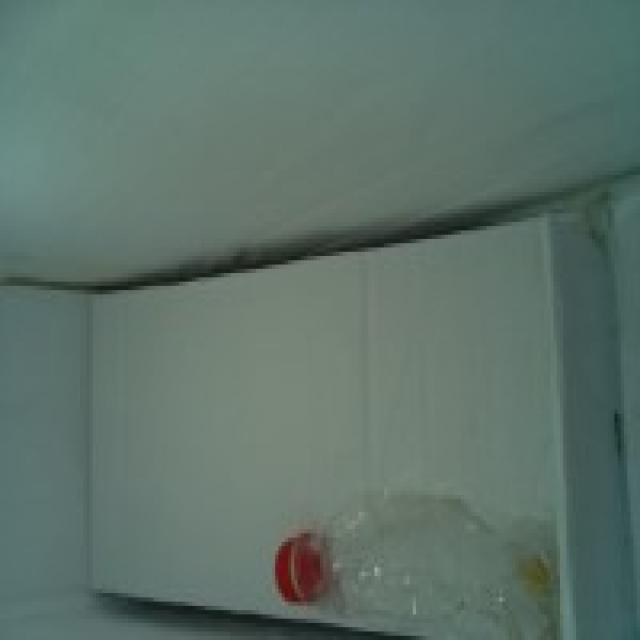plastic bottle: (263, 500, 559, 632)
